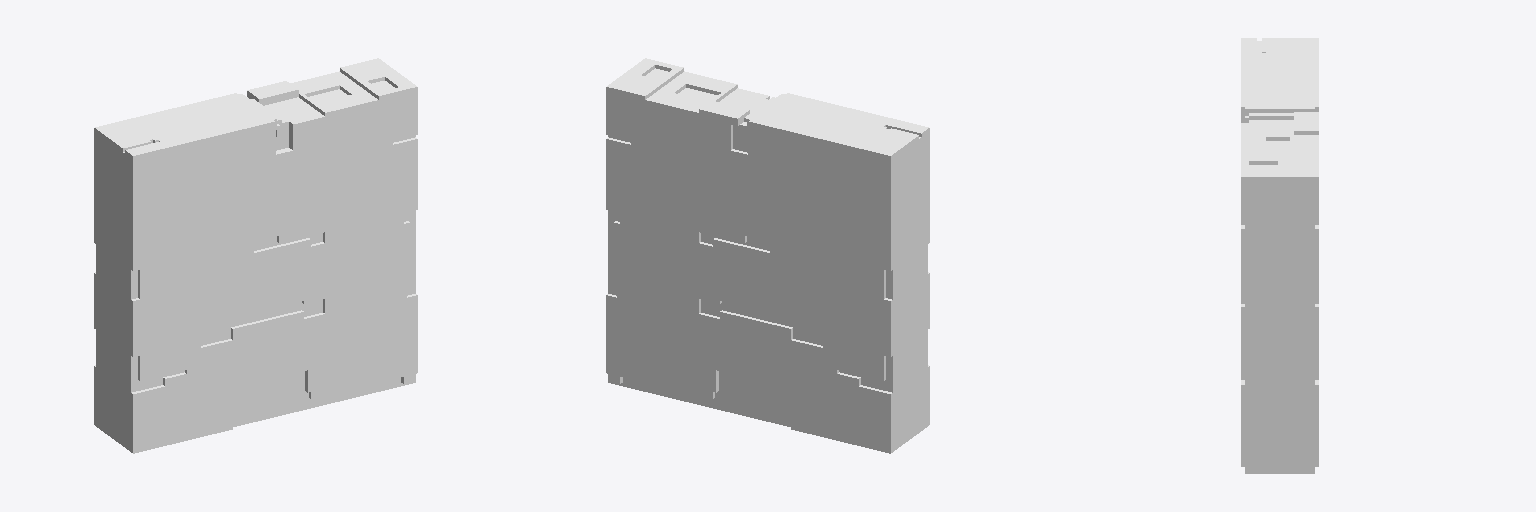
The model's file is NormalWall.obj.
3 renders of one model, left to right at view 1: azimuth 30°, elevation 25°; view 2: azimuth 150°, elevation 25°; view 3: azimuth 270°, elevation 25°, orthographic.
Parts seen in each view (by area): view 1: object 1; view 2: object 1; view 3: object 1.
Boxes of the visible parts, <box> form: object 1: <box>94,58,417,453</box>; object 1: <box>606,58,929,453</box>; object 1: <box>1241,38,1318,473</box>.
Bounding box in the file's own units: 8 × 8 × 1.9.